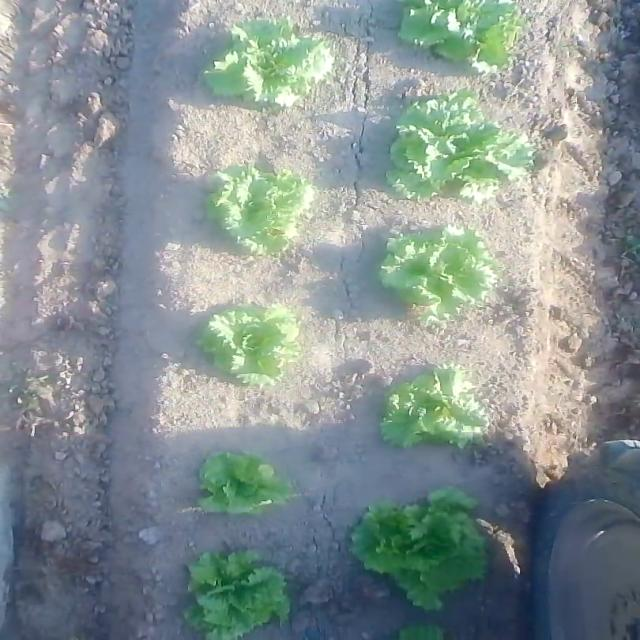Lettuce-Ready-to-Harvest: (350, 489, 486, 611), (204, 24, 336, 108), (181, 550, 290, 640), (220, 157, 308, 256), (383, 368, 484, 452), (202, 299, 297, 387), (194, 452, 292, 514)
